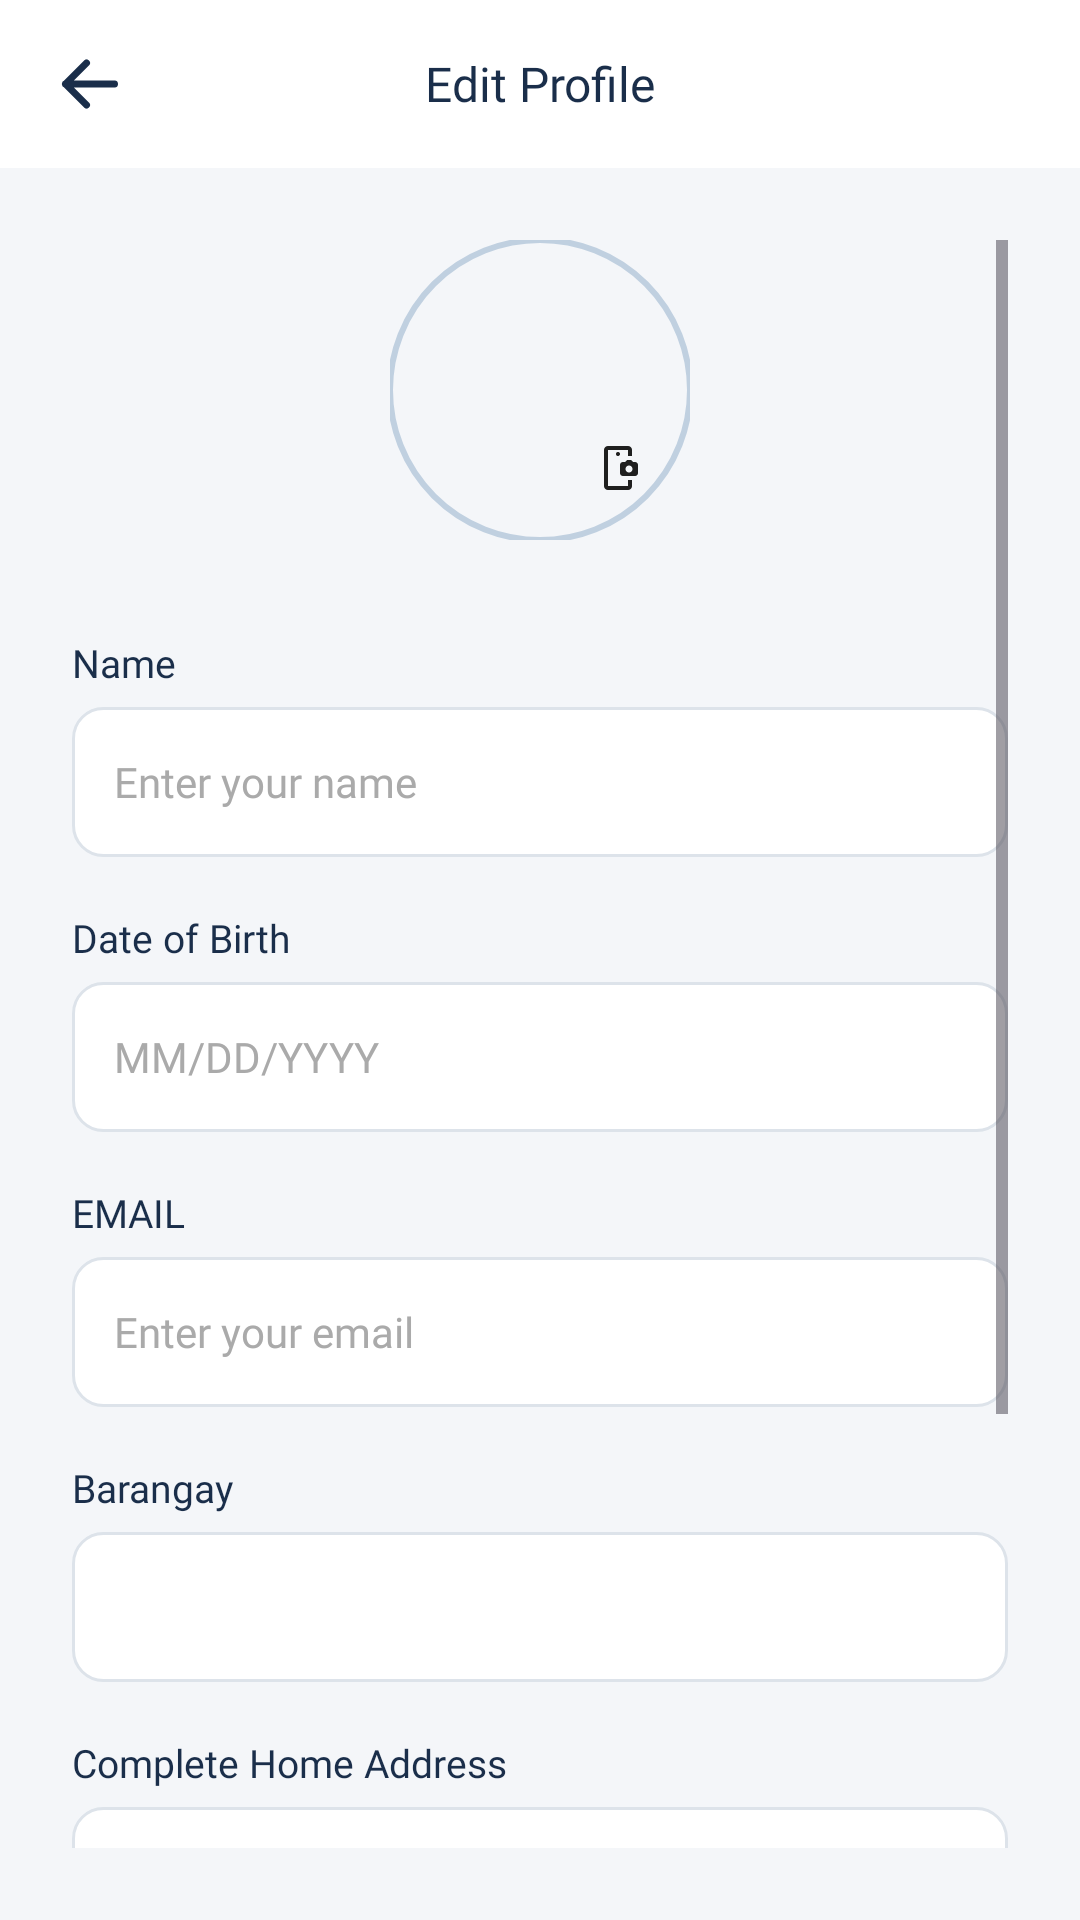

Icons on this 1080 x 1920 Android screen, each with the point to tap as [x,y]:
Back: [90,84]
Change Photo: [621,468]
